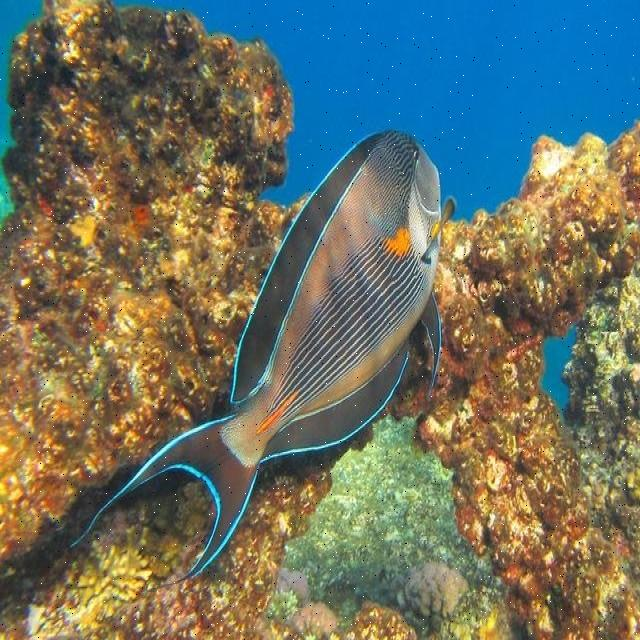fish: (66, 129, 457, 589)
reefs: (0, 0, 639, 639)
